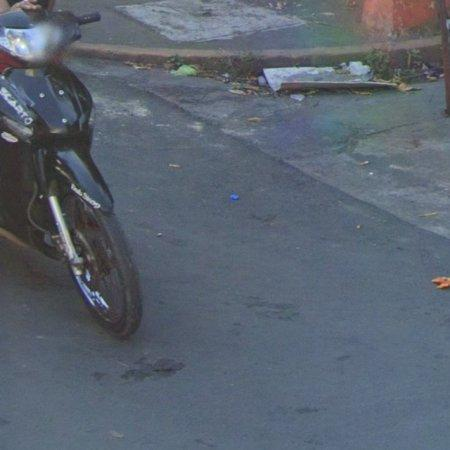motorcycles: (0, 10, 141, 338)
